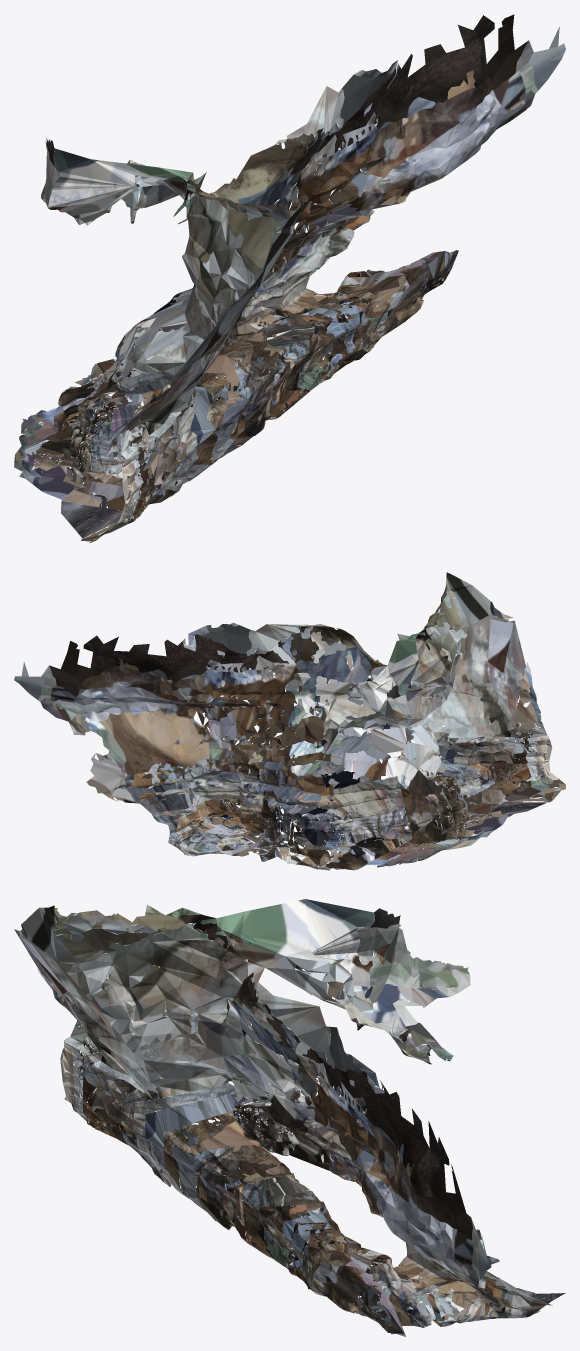
Rendered from scan-overhang.glb.
3 views of the same model, one above another, from view 1: azimuth 30°, elevation 25°; view 2: azimuth 150°, elevation 25°; view 3: azimuth 270°, elevation 25° (orthographic). The views are drawn at different scales.
Parts seen in each view (by area): view 1: scan; view 2: scan; view 3: scan.
Boxes of the visible parts, x1,y1,x2,y2 form: scan: (14, 14, 565, 543); scan: (14, 572, 565, 870); scan: (14, 899, 565, 1336).
Bounding box in the file's own units: 42.11 × 19.45 × 29.77.
Materials: 4 (4 with a texture image).
